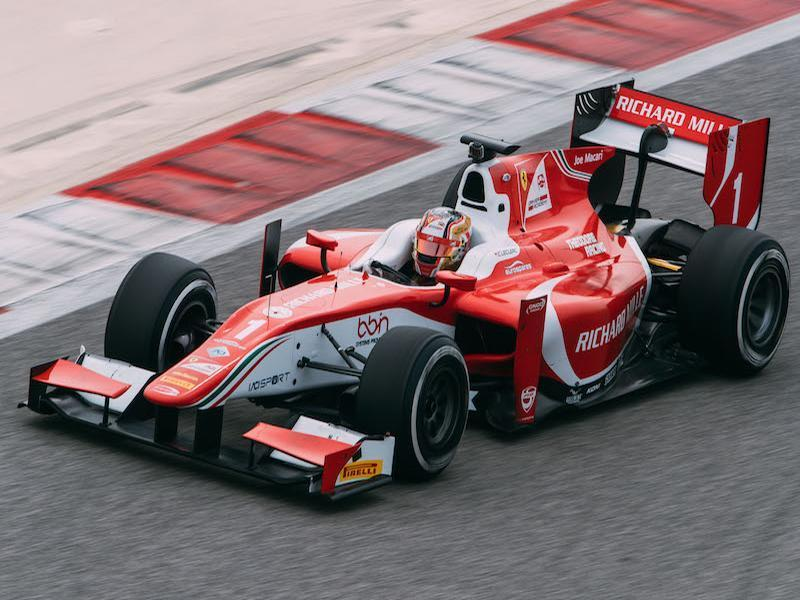f1: (49, 89, 799, 487)
